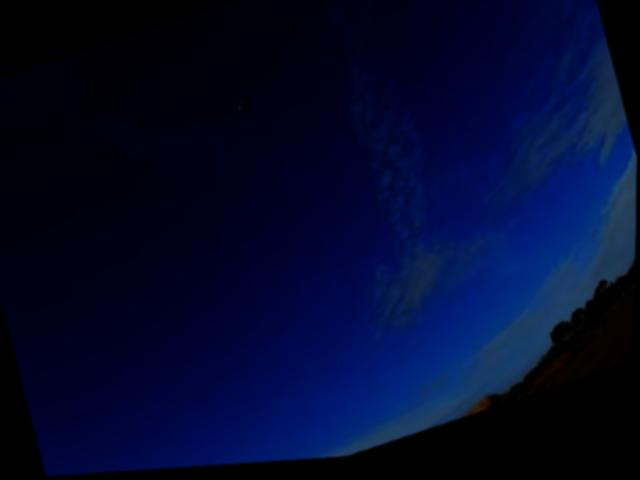uav: (218, 88, 264, 129)
